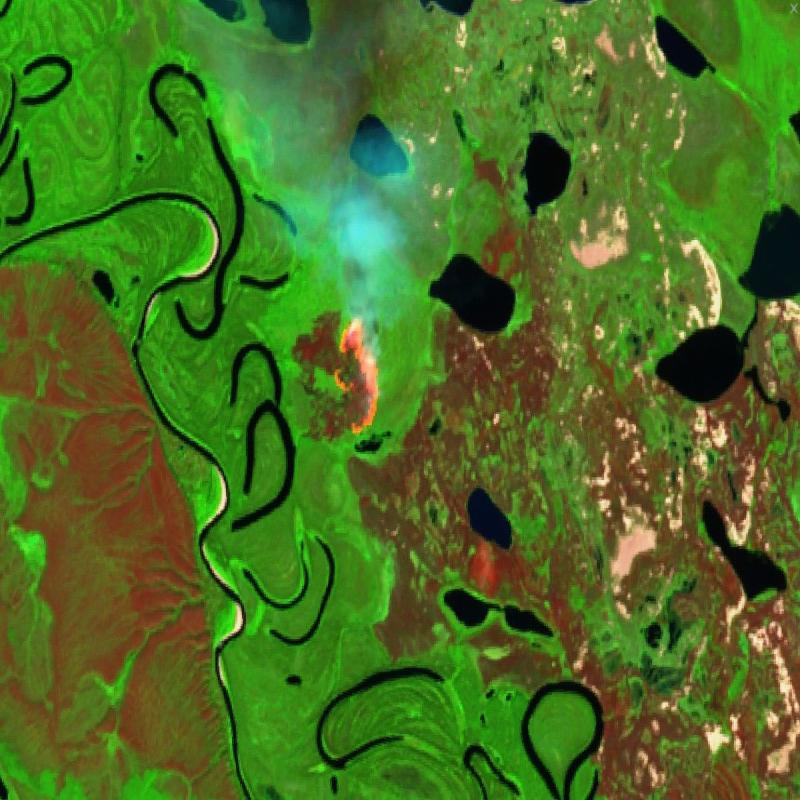fire: (326, 310, 388, 442)
